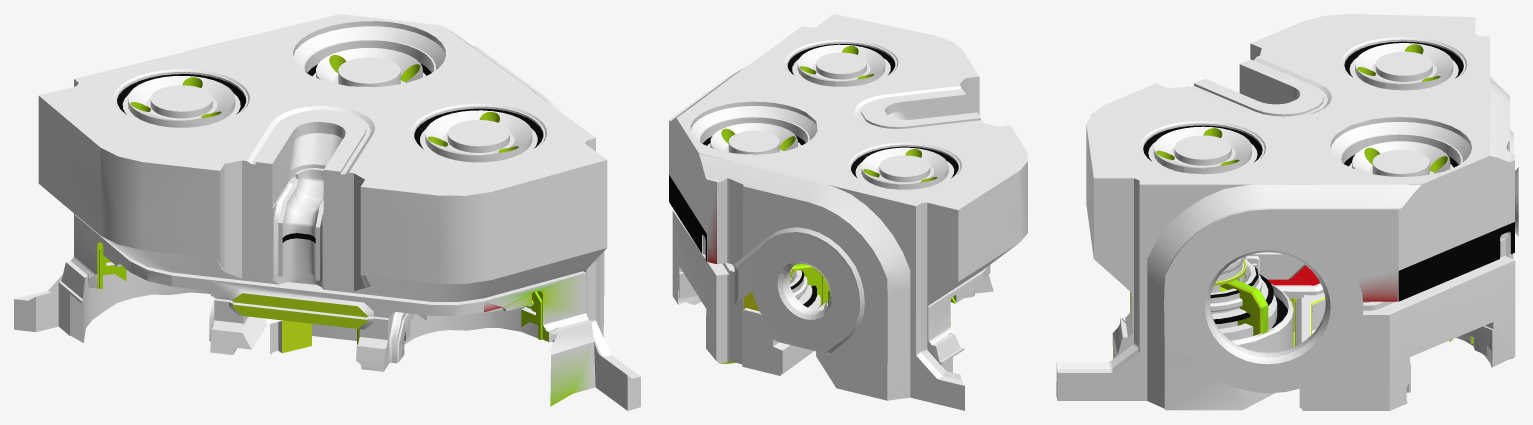
Rendered from part_main-lod0.dae.
3 renders of one model, left to right at view 1: azimuth 30°, elevation 25°; view 2: azimuth 150°, elevation 25°; view 3: azimuth 270°, elevation 25°, orthographic. The views are drawn at different scales.
Visible parts, largest first — view 1: part_main-lod0Xlod0Xp2genericXgen_p2_hulltextureaged_02_b, part_main-lod0Xlod0Xp2genericXgen_p2_hullpattern_01, part_main-lod0Xlod0Xp2multimatXp2_multimat_01, part_main-lod0Xlod0Xp2genericXgen_p2_hulltexture_02_c; view 2: part_main-lod0Xlod0Xp2genericXgen_p2_hullpattern_01, part_main-lod0Xlod0Xp2genericXgen_p2_hulltextureaged_02_b, part_main-lod0Xlod0Xp2genericXgen_p2_hulltexture_02_c, part_main-lod0Xlod0Xp2multimatXp2_multimat_01; view 3: part_main-lod0Xlod0Xp2genericXgen_p2_hullpattern_01, part_main-lod0Xlod0Xp2genericXgen_p2_hulltextureaged_02_b, part_main-lod0Xlod0Xp2genericXgen_p2_hulltexture_02_c, part_main-lod0Xlod0Xp2multimatXp2_multimat_01.
Part boxes in pixels (x1,y1,x2,y2): part_main-lod0Xlod0Xp2genericXgen_p2_hulltextureaged_02_b: (38,40,607,363); part_main-lod0Xlod0Xp2genericXgen_p2_hullpattern_01: (14,14,640,410); part_main-lod0Xlod0Xp2multimatXp2_multimat_01: (98,241,595,406); part_main-lod0Xlod0Xp2genericXgen_p2_hulltexture_02_c: (117,63,543,243); part_main-lod0Xlod0Xp2genericXgen_p2_hullpattern_01: (669,14,1027,410); part_main-lod0Xlod0Xp2genericXgen_p2_hulltextureaged_02_b: (669,42,1027,372); part_main-lod0Xlod0Xp2genericXgen_p2_hulltexture_02_c: (669,44,958,307); part_main-lod0Xlod0Xp2multimatXp2_multimat_01: (743,265,955,325); part_main-lod0Xlod0Xp2genericXgen_p2_hullpattern_01: (1056,14,1515,410); part_main-lod0Xlod0Xp2genericXgen_p2_hulltextureaged_02_b: (1086,39,1518,410); part_main-lod0Xlod0Xp2genericXgen_p2_hulltexture_02_c: (1143,41,1514,323); part_main-lod0Xlod0Xp2multimatXp2_multimat_01: (1112,259,1473,392).
Size of the model in its own units: 56.58 by 31.67 by 59.41.
